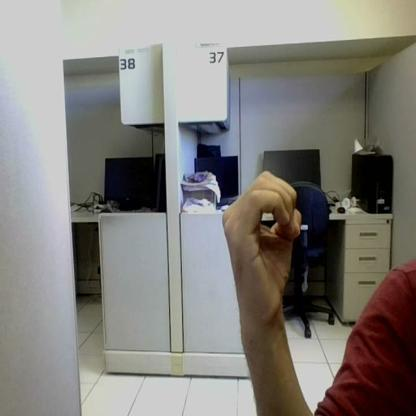O: (223, 172, 302, 290)
